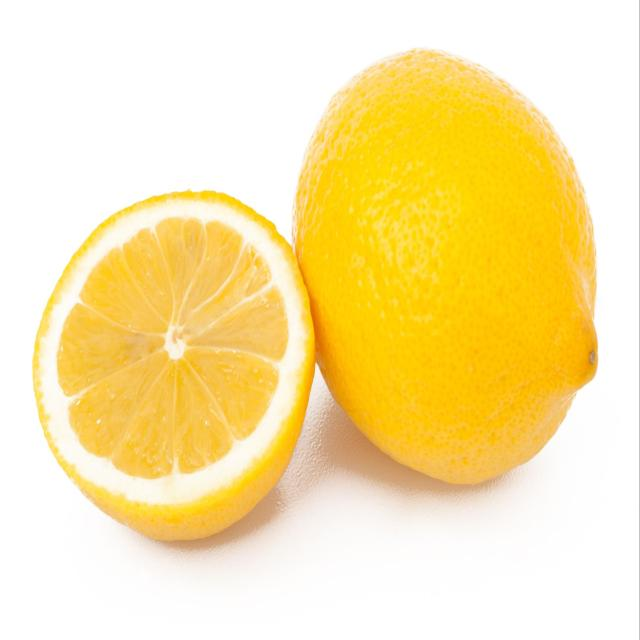lemon: (289, 45, 603, 493), (29, 185, 318, 548)
